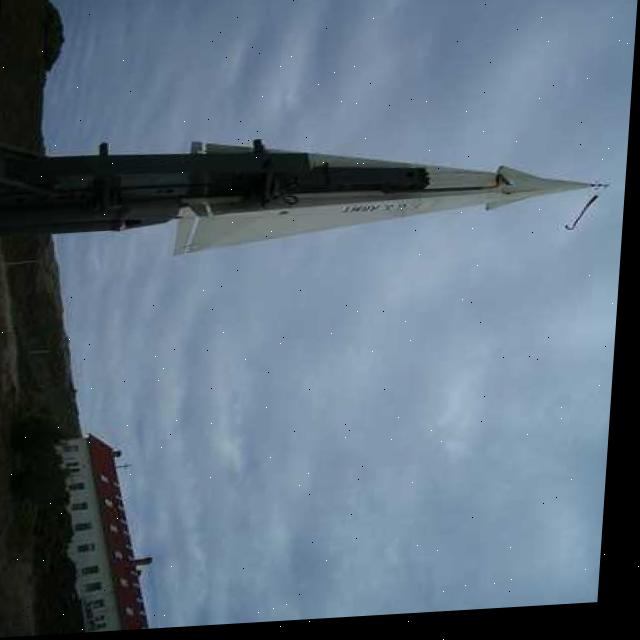missile: (166, 121, 619, 264)
